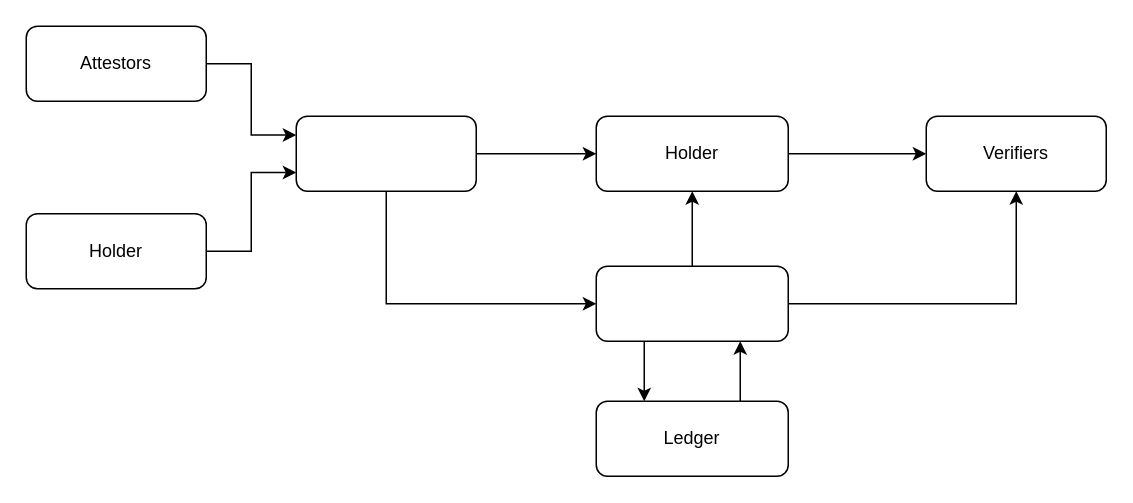
The diagram is 1133 pixels wide and 503 high, and some of its shapes have lost their labels. Here are the shapes that lost their labels. From the top down, the box of each, then its label:
(295, 115, 476, 191): Issuer
(595, 265, 788, 341): Ledger Client
